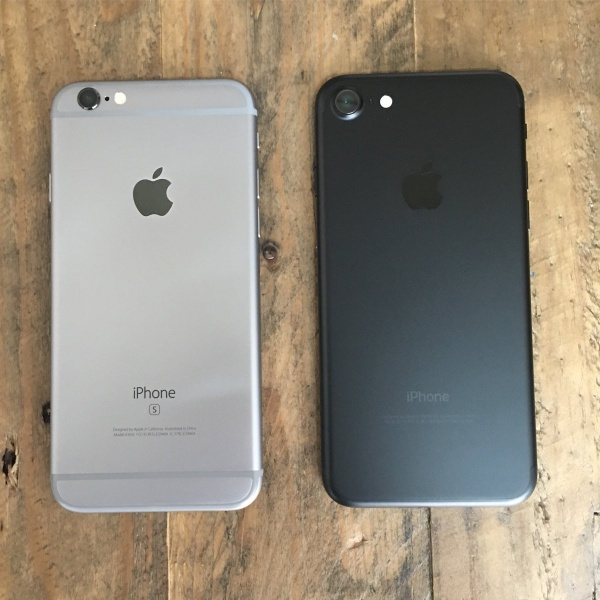apple: (125, 158, 190, 231), (388, 156, 462, 218)
